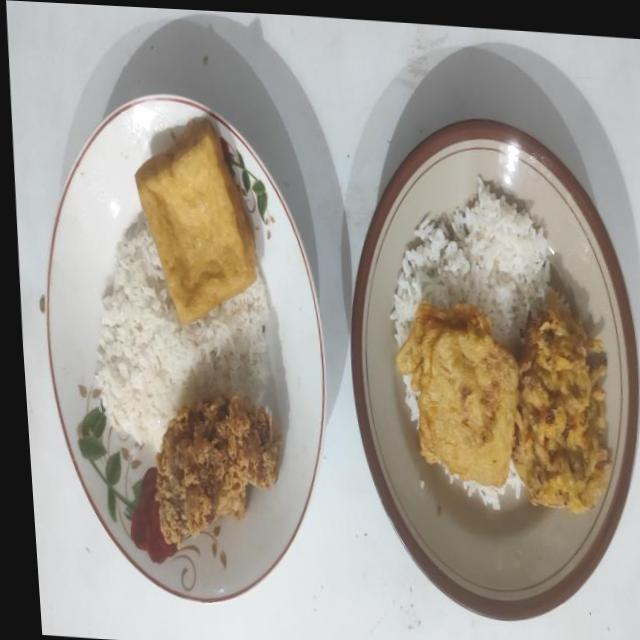nasi_putih: (95, 213, 272, 444), (390, 175, 552, 348)
tahu_goreng: (135, 120, 256, 322)
